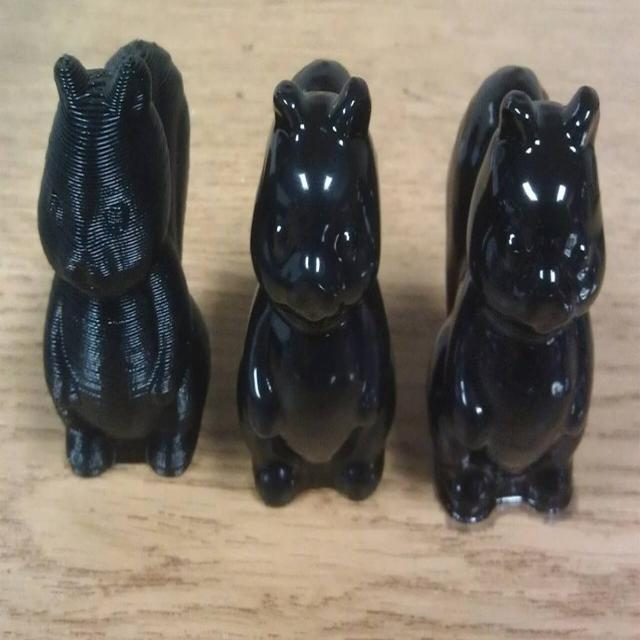Without deffect: (37, 26, 619, 575)
